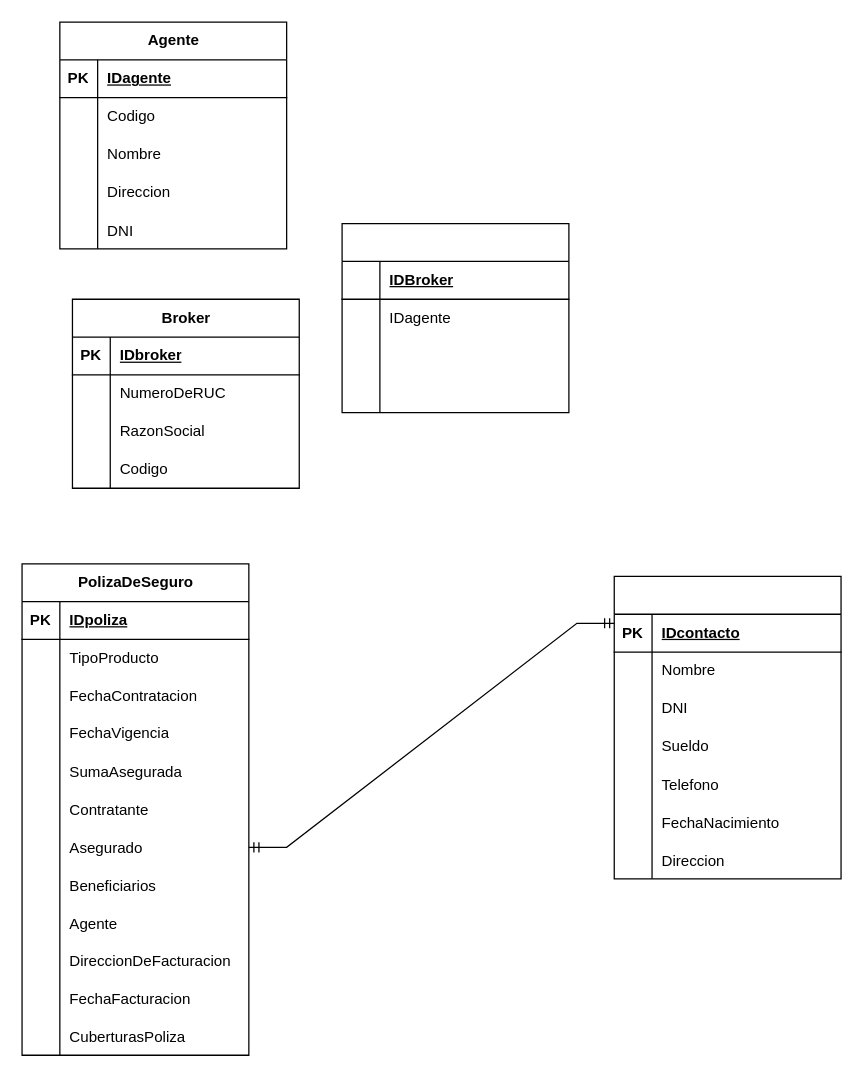
This 863x1077 diagram has some shape labels left out. The shapes that lost their labels are listed below. From the top down, each one's box as (x1, y1, x2, y2) in pixels, then its label:
(341, 222, 569, 413): AgentesBroker
(613, 575, 841, 879): ContactoPersona
